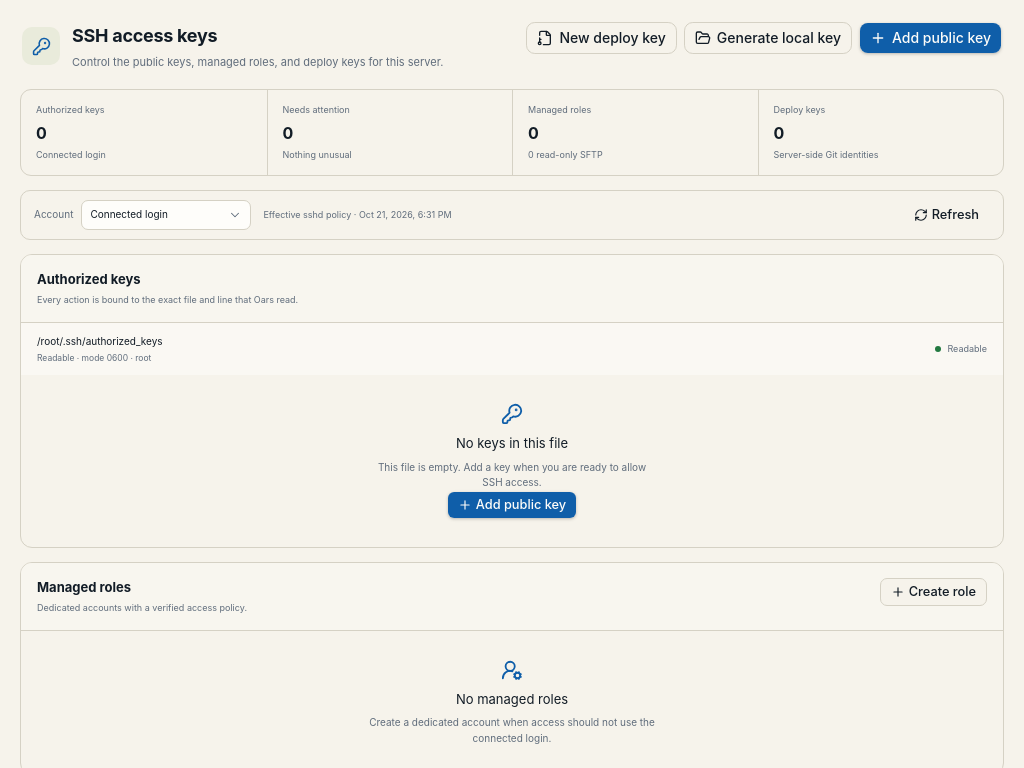
Test: Empirical Challenger: Tab Modals Accessibility & Focus Verification › KeysTab Modal Dialogs › opens KeyModal with [data-key-first] autofocus, aria attributes and Escape dismissal
The image size is (1024, 768).
Click the button "Generate local key".
click(768, 38)  # box [684, 22, 852, 54]
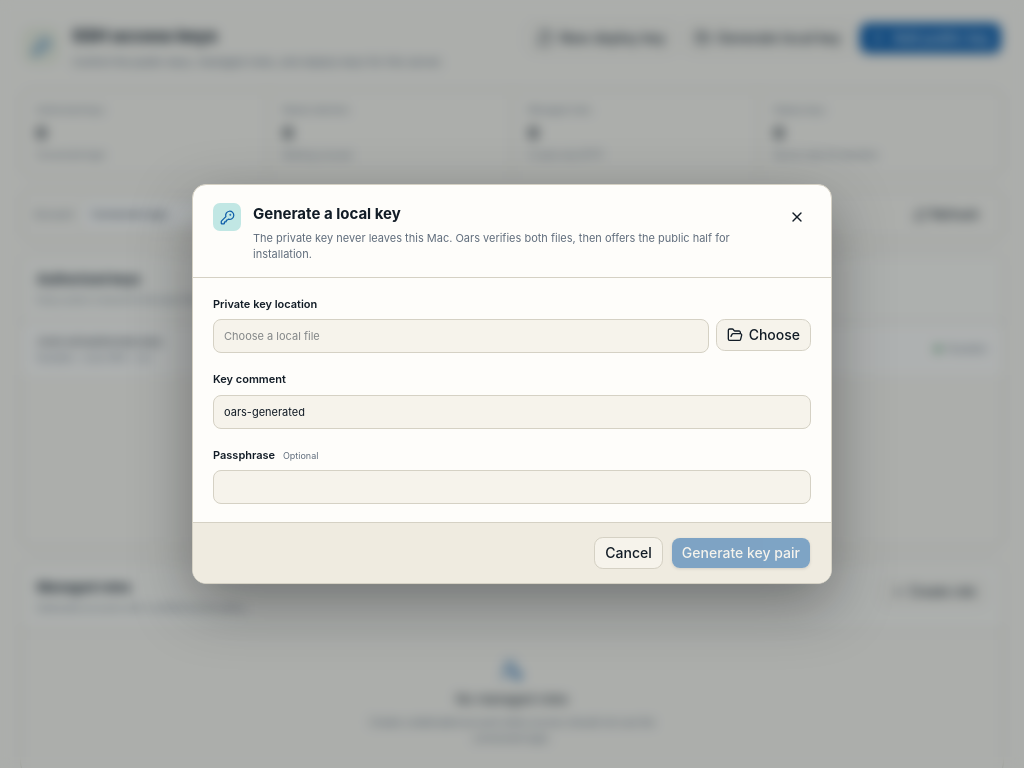
Result: the dialog is shown at [192, 184, 832, 584]
# Escape closes dialog
Press Escape
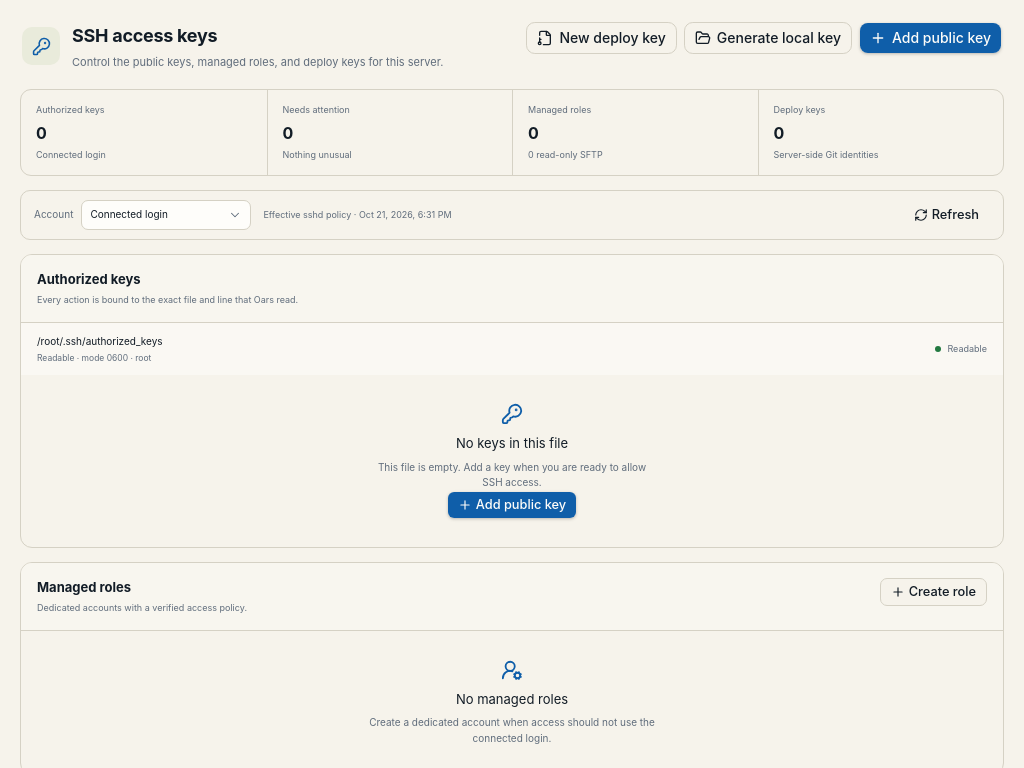
Result: the dialog is gone
